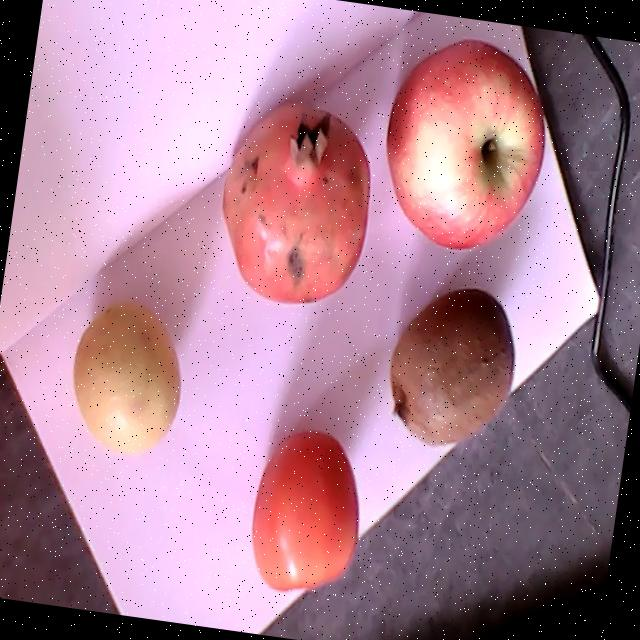apple: (387, 39, 544, 248)
kiwi: (389, 288, 512, 444)
lemon: (74, 301, 177, 448)
pomegranate: (221, 102, 369, 302)
tomato: (253, 430, 358, 593)
